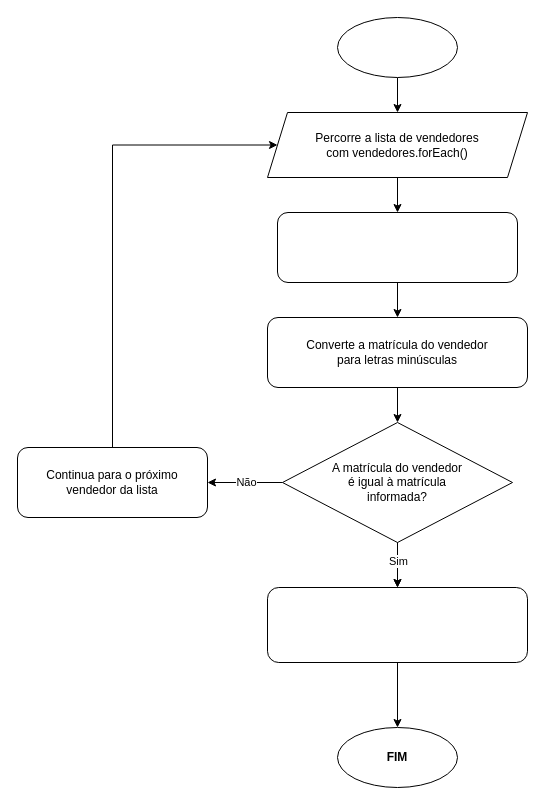
The diagram is 545 pixels wide and 805 high, and some of its shapes have lost their labels. Here are the shapes that lost their labels. From the top down, the centre of each, then its label:
At pixel 397 47: "INÍCIO".
At pixel 397 247: "Para cada vendedor, obtém o índice e o vendedor atual".
At pixel 397 624: "Remove o vendedor da lista com vendedores.splice(indice, 1)".
